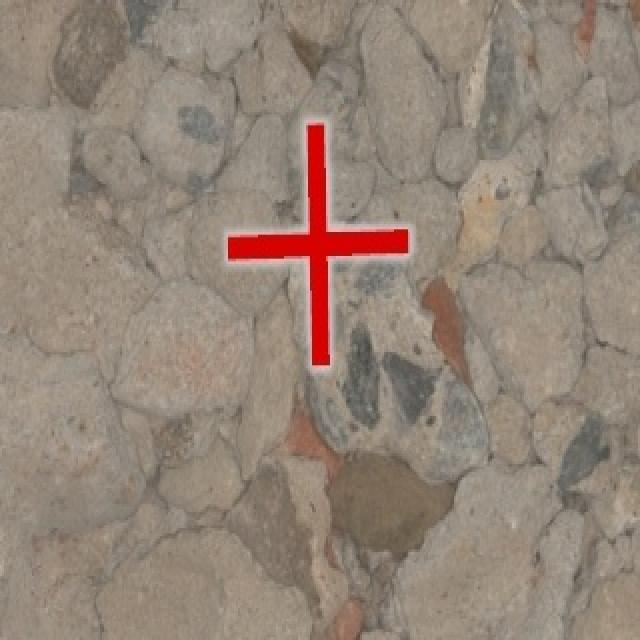x_marker: (227, 121, 409, 367)
